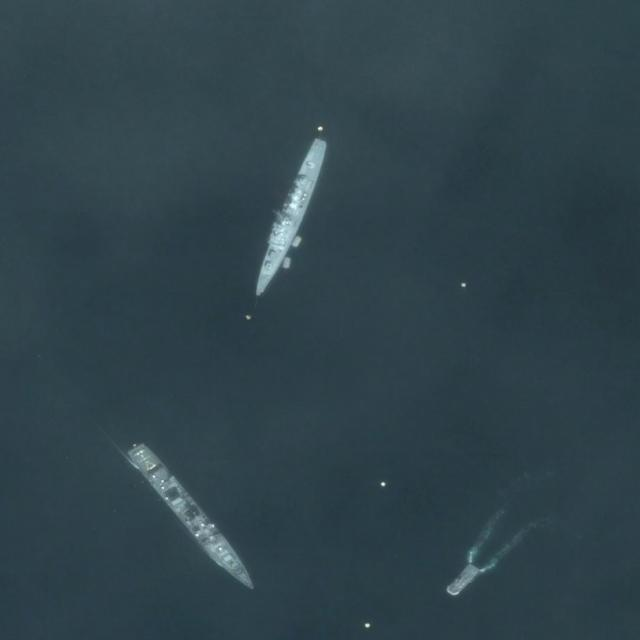Destroyer: (123, 436, 261, 598)
Other Warship: (246, 135, 330, 301), (444, 562, 480, 599)
